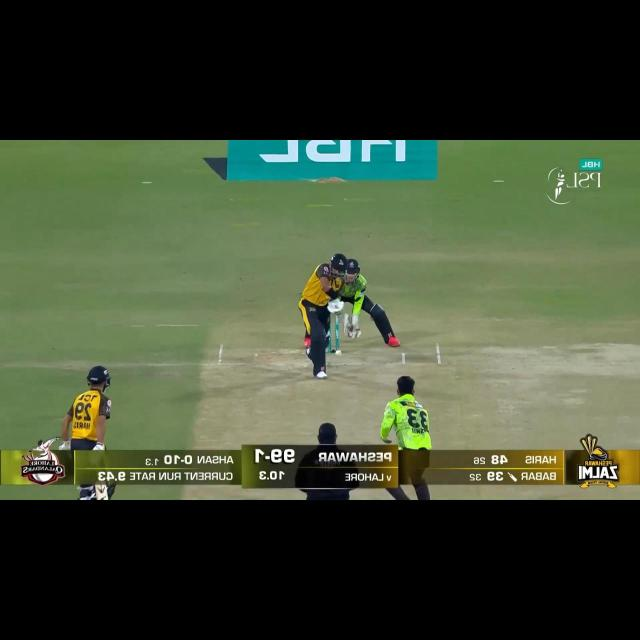bat: (93, 486, 107, 500), (333, 309, 344, 319)
toe: (94, 483, 109, 501)
